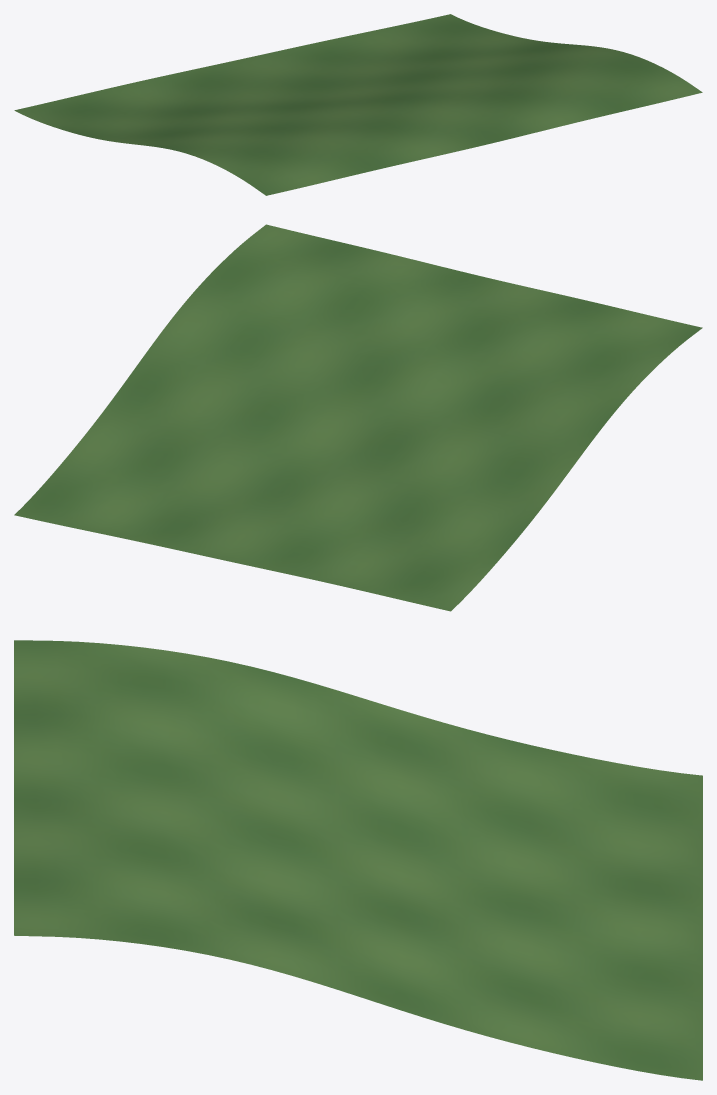
Rendered from chunk_7_12.glb.
The picture shows the model from 3 angles, top to bottom: view 1: azimuth 30°, elevation 25°; view 2: azimuth 150°, elevation 25°; view 3: azimuth 270°, elevation 25°; orthographic projection. The views are drawn at different scales.
Bounding box in the file's own units: 512 × 122 × 512.
